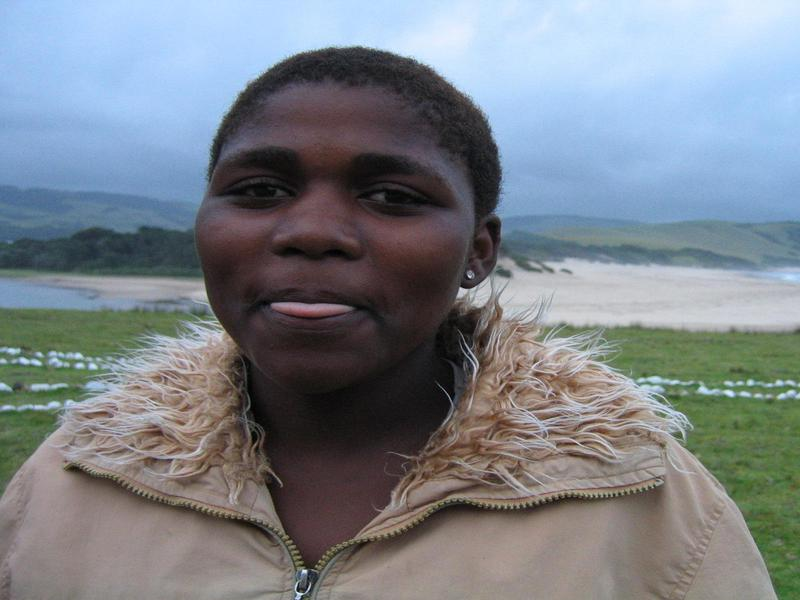person: (4, 36, 779, 600)
